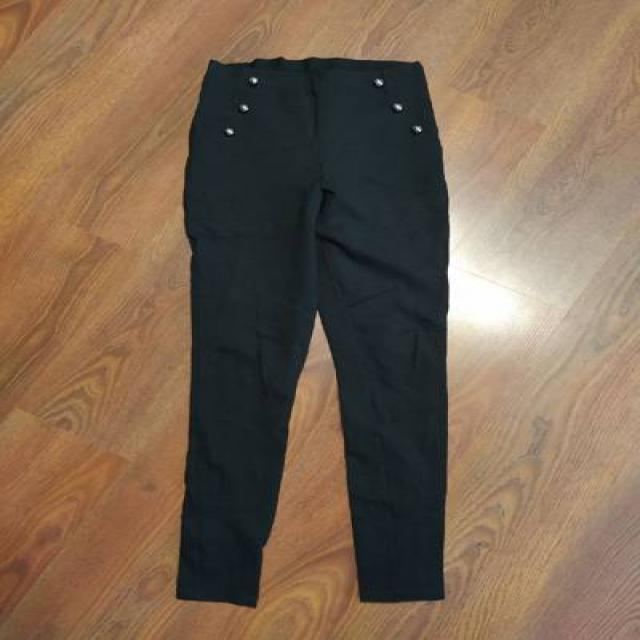Clothes -Biodegradable-: (177, 58, 452, 604)
